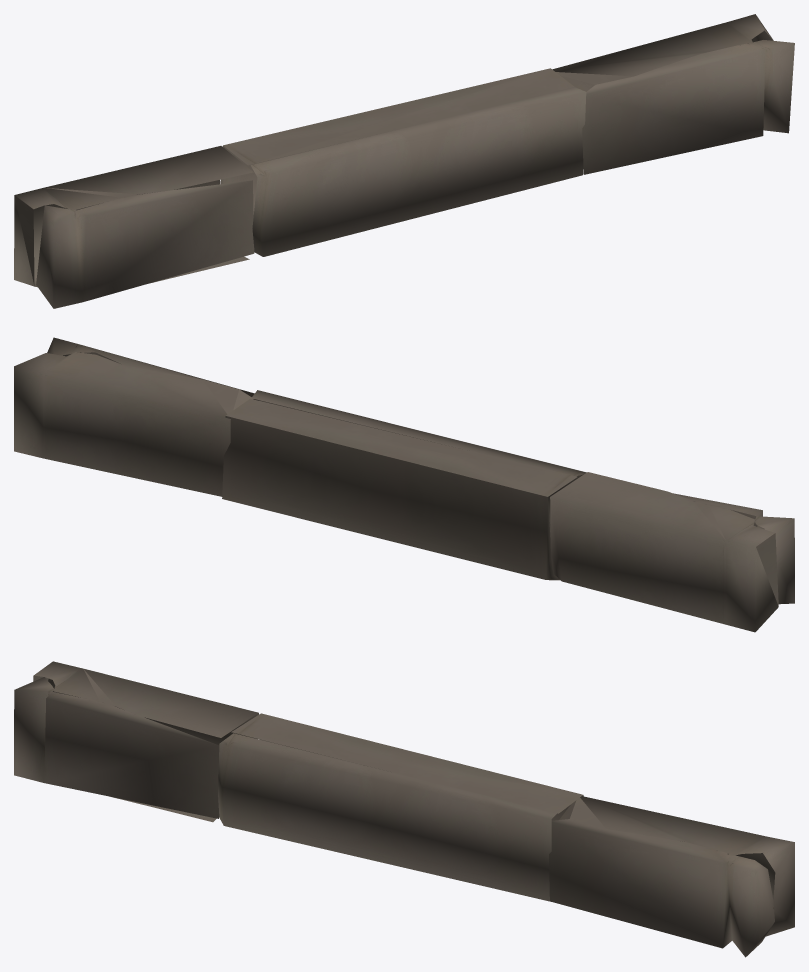
3 renders of one model, top to bottom at view 1: azimuth 30°, elevation 25°; view 2: azimuth 150°, elevation 25°; view 3: azimuth 330°, elevation 25°, orthographic.
Parts seen in each view (by area): view 1: quad; view 2: quad; view 3: quad.
Part boxes in pixels (box(x1,y1,x2,y2)): quad: box(14, 14, 794, 308); quad: box(14, 337, 794, 632); quad: box(14, 661, 794, 957).
Size of the model in its own units: 400 by 46.51 by 38.62.
Materials: 1 (1 with a texture image).
